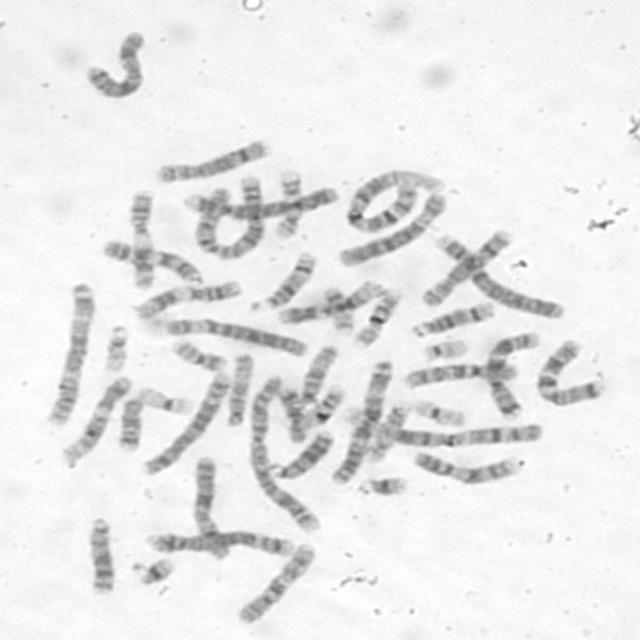A1: (339, 404, 544, 449), (345, 166, 447, 236)
A2: (248, 374, 326, 532), (190, 172, 268, 262)
A3: (325, 358, 396, 488), (44, 280, 96, 426)
B4: (432, 232, 568, 322), (181, 183, 341, 220)
B5: (140, 369, 231, 476), (140, 529, 298, 560)
C10: (234, 541, 319, 627), (402, 361, 522, 392)
C11: (134, 278, 245, 318), (128, 186, 160, 295)
C12: (59, 374, 134, 464), (275, 276, 390, 325)
C6: (336, 192, 447, 269), (161, 316, 307, 359)
C7: (482, 328, 544, 422), (533, 339, 608, 409)
C8: (418, 228, 515, 311), (156, 136, 272, 185)
C9: (100, 238, 204, 288), (411, 449, 523, 487)
D13: (268, 426, 336, 480), (85, 516, 118, 596)
D14: (248, 250, 320, 314), (411, 299, 498, 339)
D15: (300, 344, 339, 406), (226, 351, 257, 427)
E16: (353, 286, 406, 350), (290, 379, 346, 432)
E17: (366, 401, 414, 464), (271, 168, 307, 240)
E18: (276, 384, 308, 443), (116, 398, 146, 454)
F19: (408, 395, 468, 430), (135, 384, 196, 416)
F20: (168, 336, 226, 373), (322, 286, 354, 336)
G21: (130, 554, 177, 588), (354, 474, 408, 500)
G22: (419, 337, 471, 363), (104, 322, 127, 372)
X: (83, 26, 154, 101), (190, 453, 233, 562)
